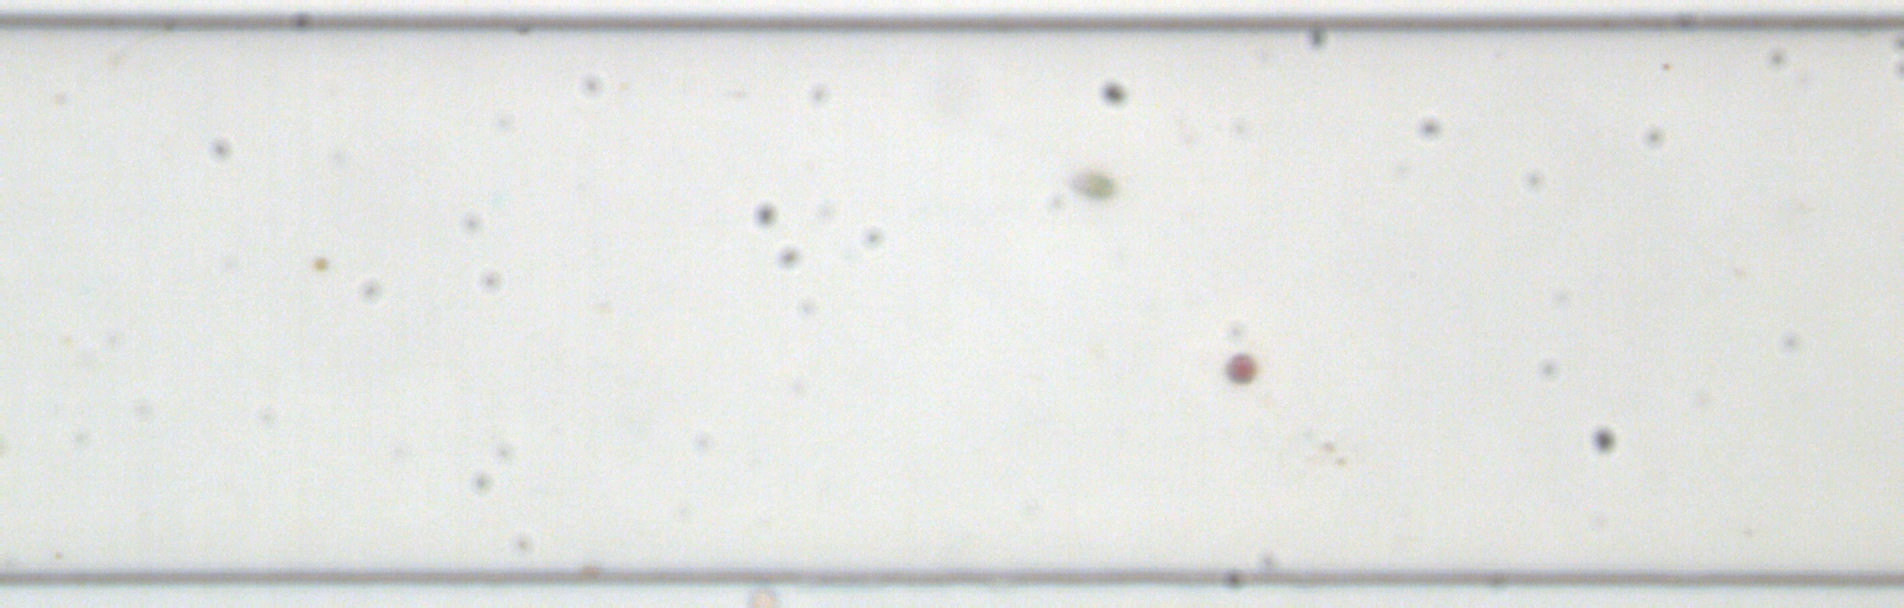Chlorella: (308, 252, 331, 271)
Dunaliella salina: (1066, 167, 1120, 200)
Porphyridium: (1223, 350, 1259, 383)
